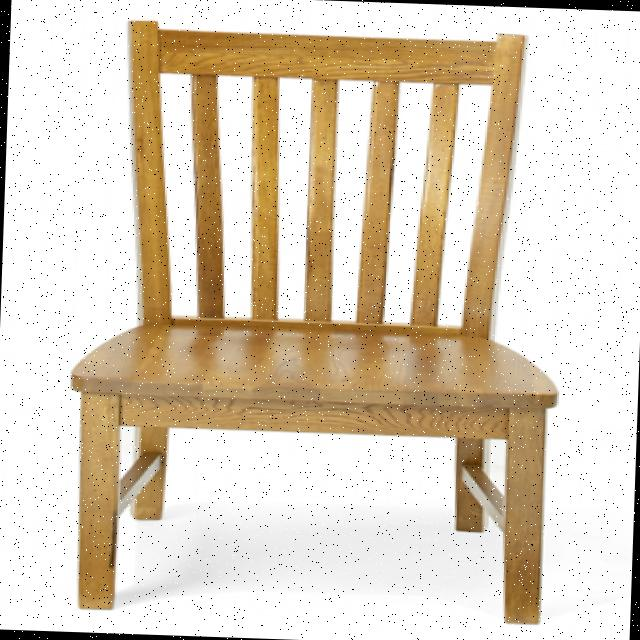Chair: (50, 9, 588, 639)
